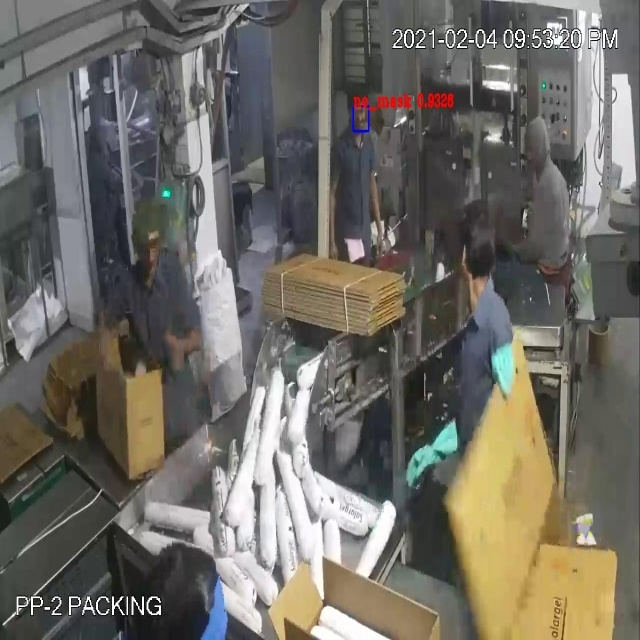Guantes: (400, 406, 463, 492), (487, 335, 522, 409)
Sin_guantes: (317, 164, 353, 261), (370, 153, 398, 267), (156, 320, 210, 375)
